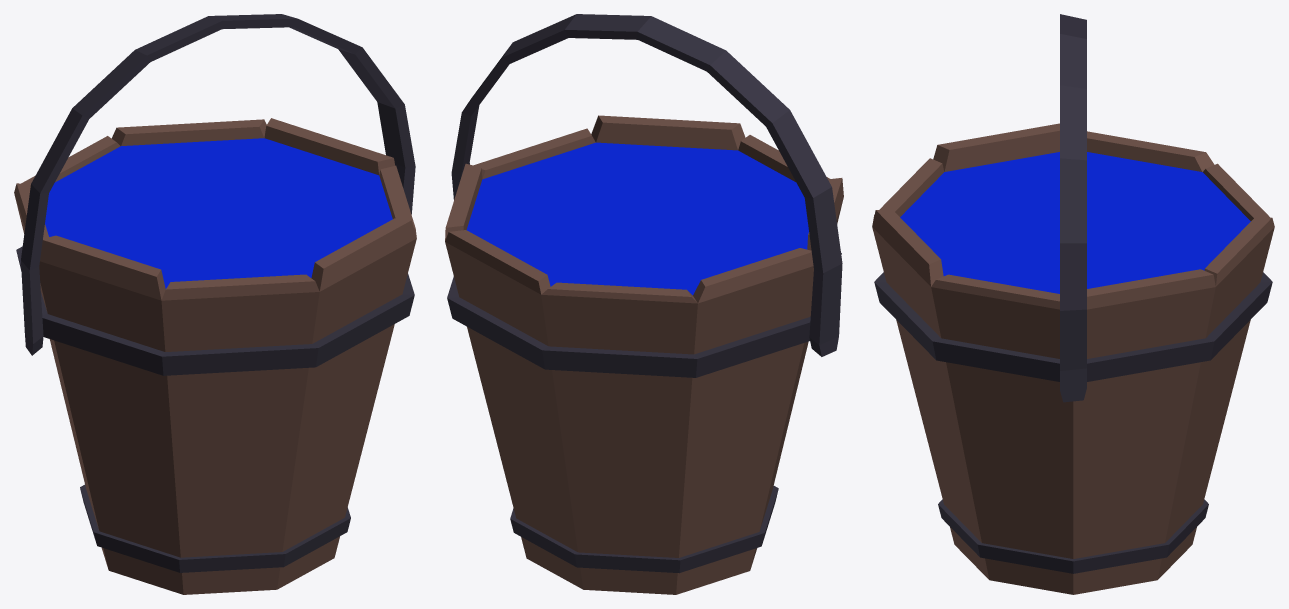
Rendered from bucket_of_water.glb.
3 renders of one model, left to right at view 1: azimuth 30°, elevation 25°; view 2: azimuth 150°, elevation 25°; view 3: azimuth 270°, elevation 25°, orthographic. The views are drawn at different scales.
Parts seen in each view (by area): view 1: bucket_of_water; view 2: bucket_of_water; view 3: bucket_of_water.
Part boxes in pixels (x1=…): bucket_of_water: x1=14, y1=14, x2=416, y2=594; bucket_of_water: x1=445, y1=14, x2=843, y2=594; bucket_of_water: x1=872, y1=14, x2=1274, y2=594.
Size of the model in its own units: 0.3309 by 0.4335 by 0.3097.
